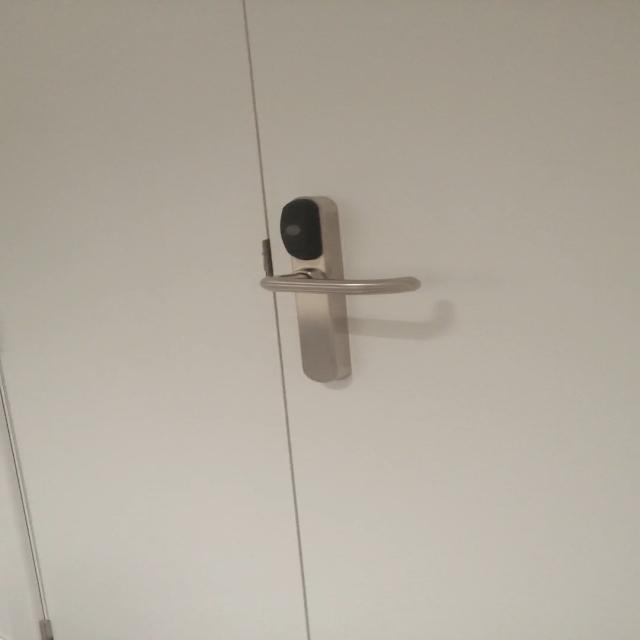door_handle: (255, 267, 427, 302)
